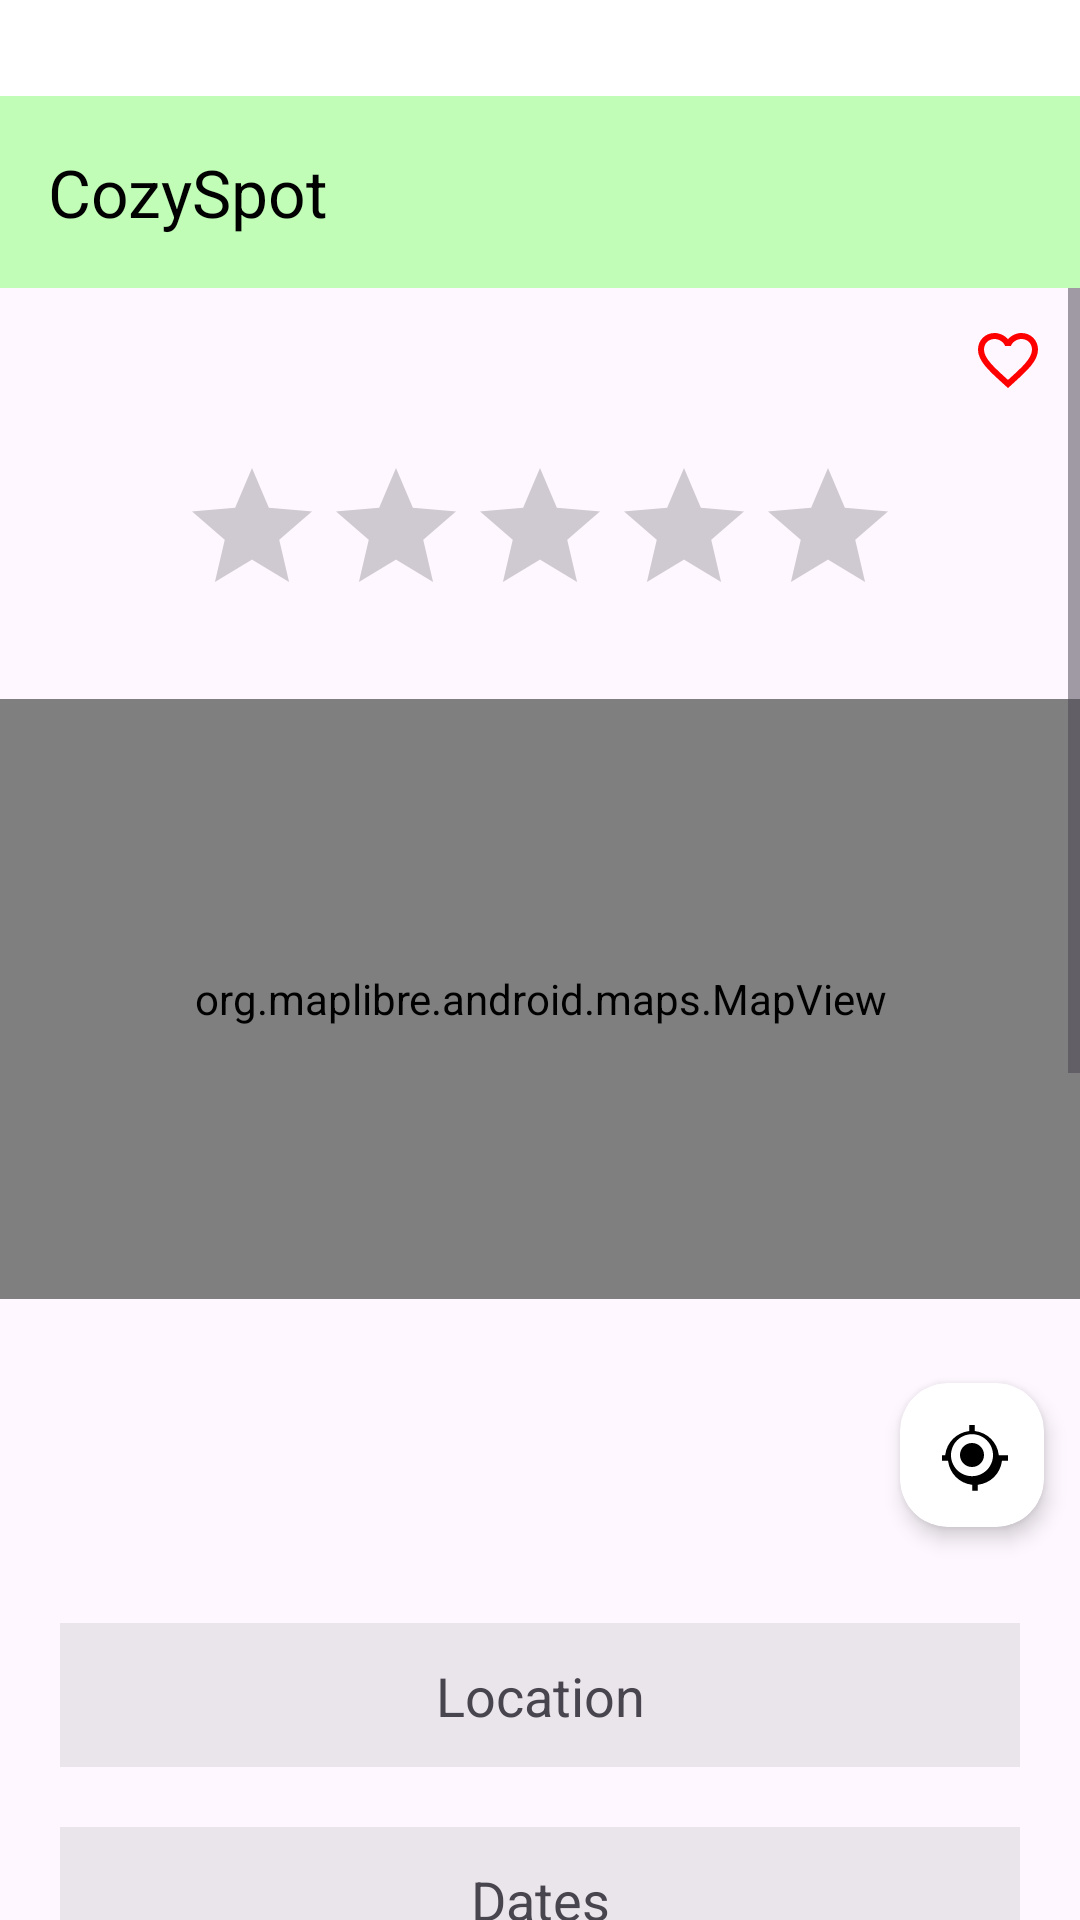

Icon bounding boxes for this 1080px×1920px phone screenshot, format (x1, y1, x2, y2):
Center on map: (900, 1383, 1044, 1527)
Favorite house: (978, 288, 1080, 432)
